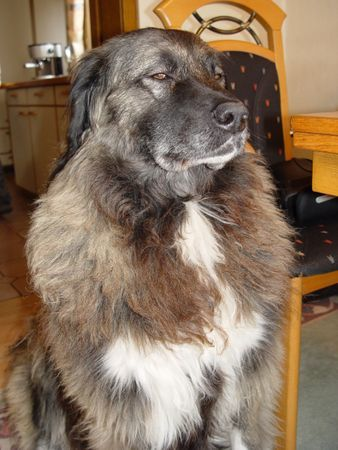cau_ovcharka: (0, 26, 297, 448)
